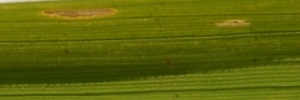RiceBacterialBlight: (35, 3, 127, 27)
